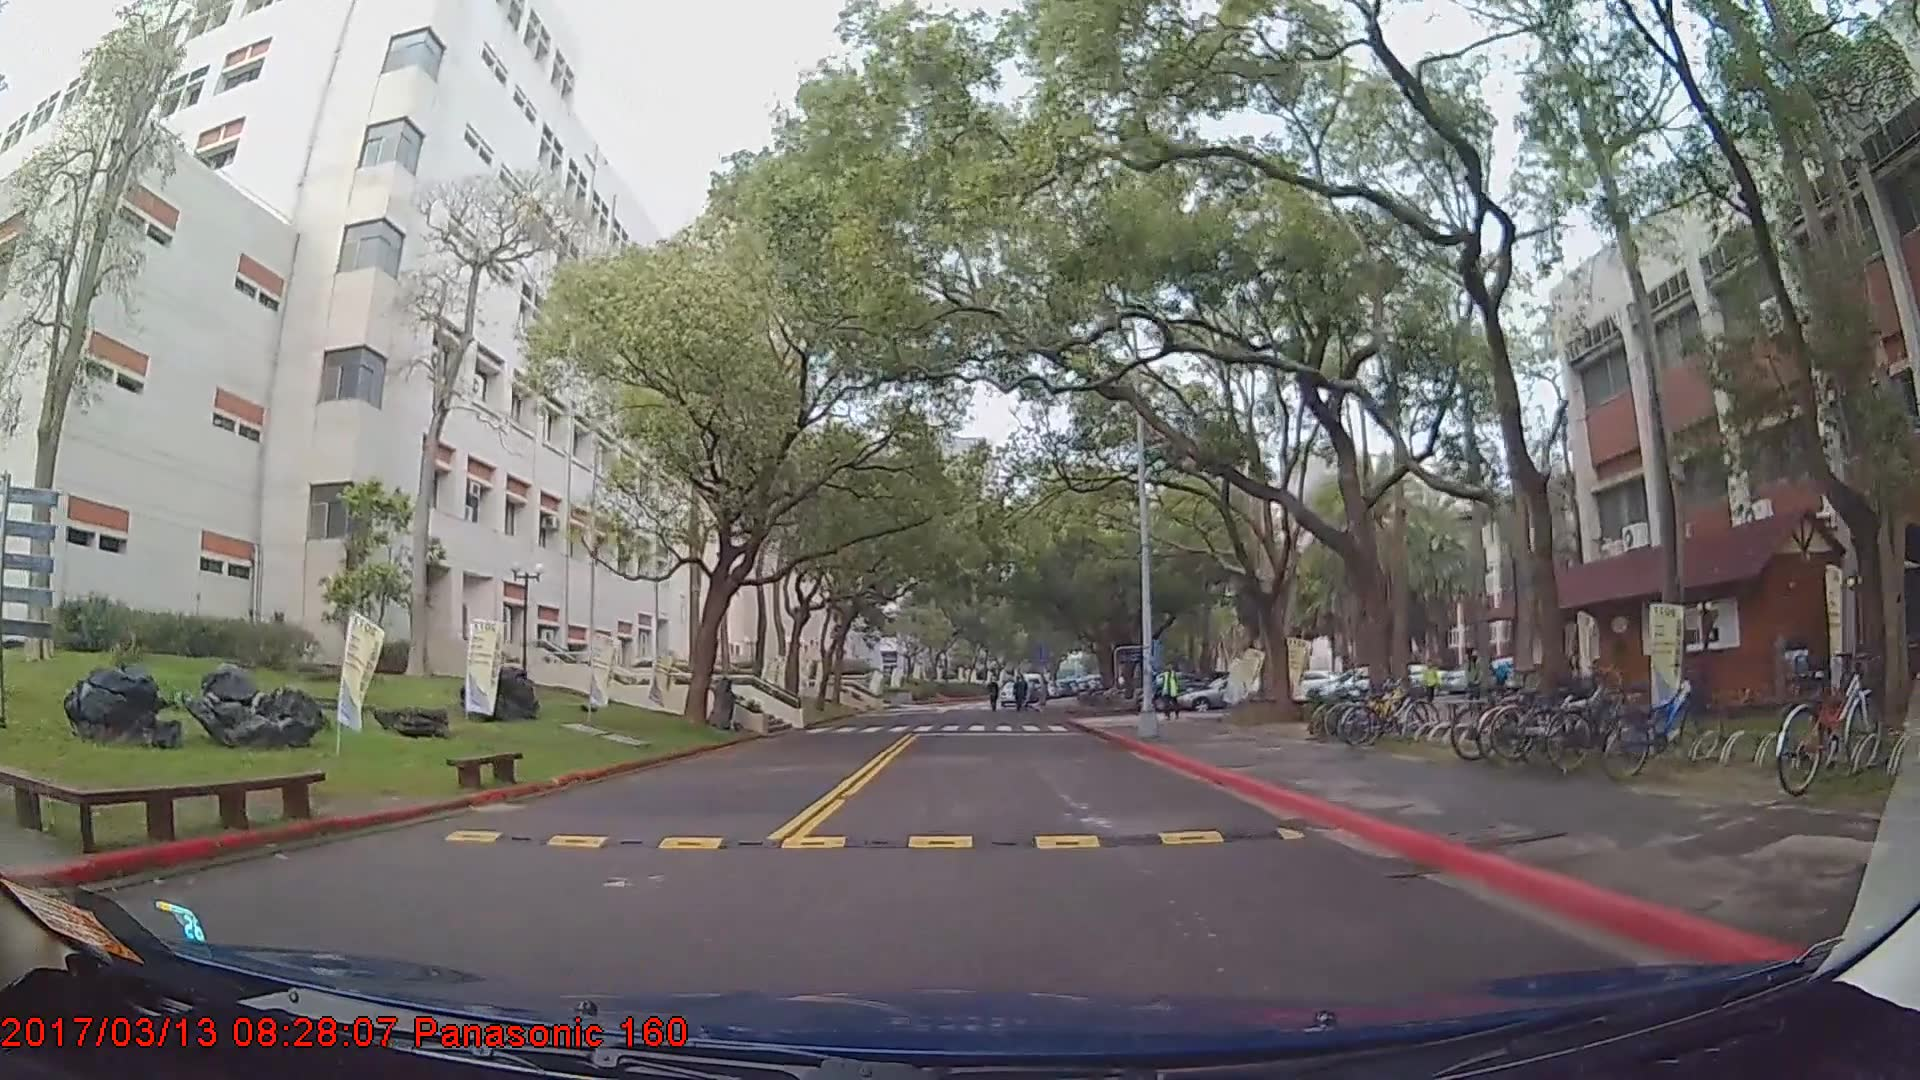vehicle: (1178, 674, 1273, 711)
